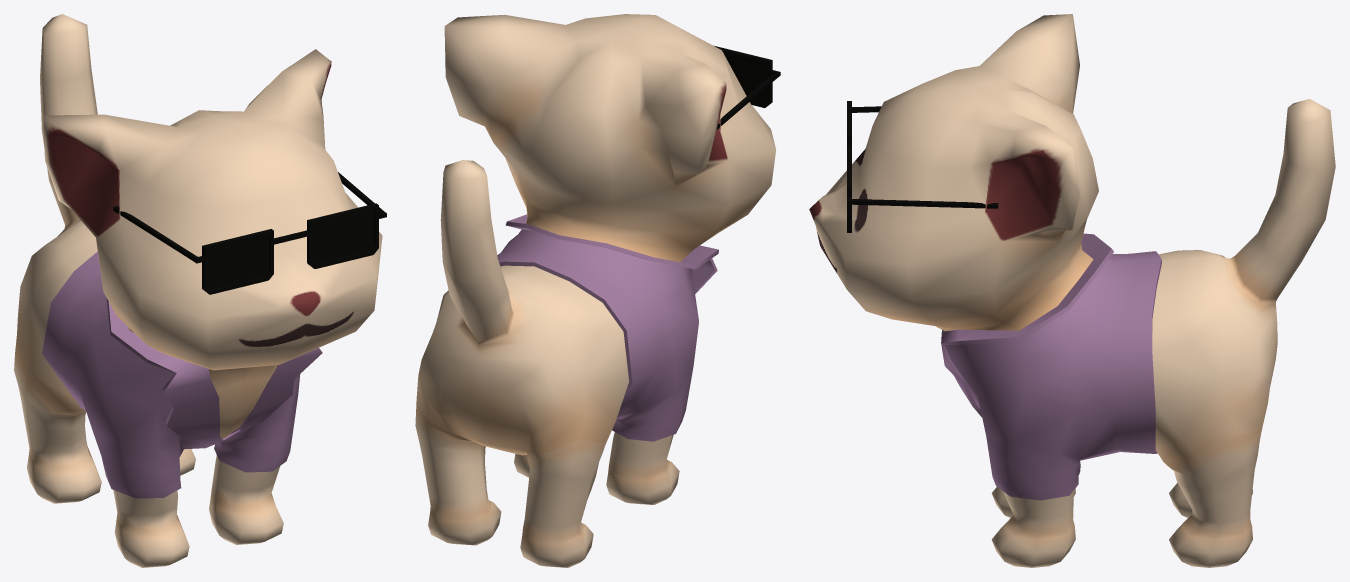
Rendered from Theater Cat01.fbx.
3 renders of one model, left to right at view 1: azimuth 30°, elevation 25°; view 2: azimuth 150°, elevation 25°; view 3: azimuth 270°, elevation 25°, orthographic. The views are drawn at different scales.
Parts seen in each view (by area): view 1: Cat_Base, TS_Cat_Shirt, Theater_Cat_Glasses; view 2: Cat_Base, TS_Cat_Shirt, Theater_Cat_Glasses; view 3: Cat_Base, TS_Cat_Shirt, Theater_Cat_Glasses.
Boxes of the visible parts, <box> form: Cat_Base: <box>14,14,382,567</box>; TS_Cat_Shirt: <box>42,251,322,498</box>; Theater_Cat_Glasses: <box>113,172,386,294</box>; Cat_Base: <box>415,14,776,567</box>; TS_Cat_Shirt: <box>497,214,718,441</box>; Theater_Cat_Glasses: <box>714,46,780,129</box>; Cat_Base: <box>809,14,1335,567</box>; TS_Cat_Shirt: <box>941,233,1161,500</box>; Theater_Cat_Glasses: <box>847,101,998,232</box>.
Size of the model in its own units: 1.75 by 2.83 by 2.68.
Materials: 4 (1 with a texture image).
